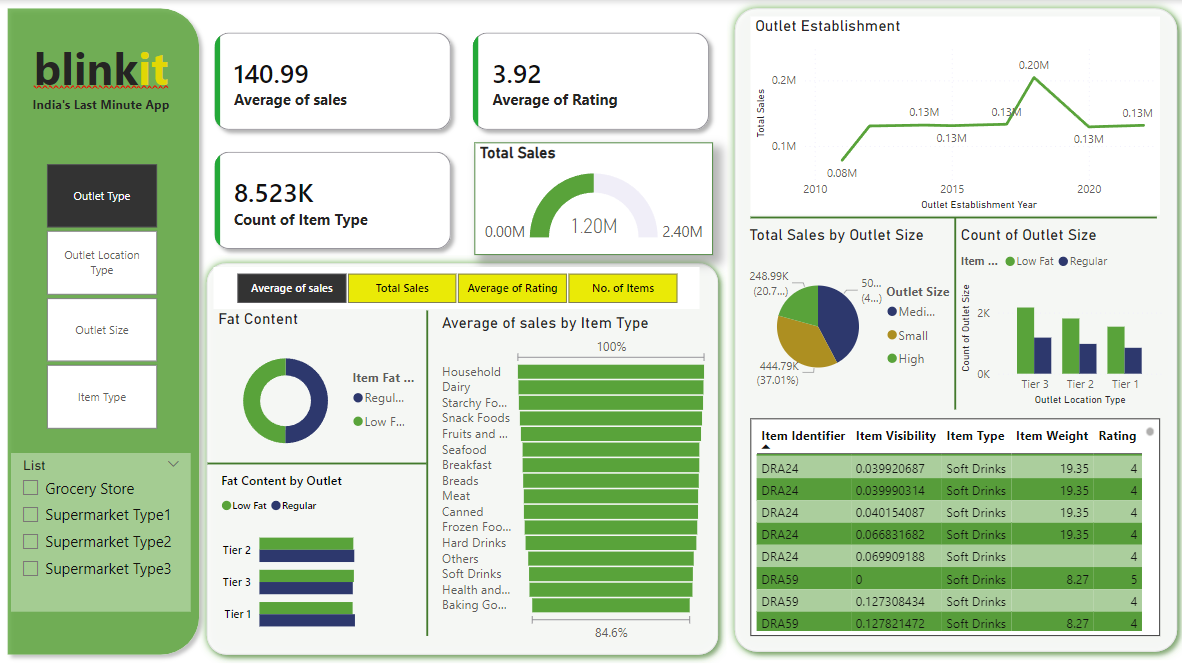

Layout of this report page (visuals, bound fields, positions):
{"tool":"powerbi","page":{"name":"Dashboard","canvas":[1280,720],"ordinal":0},"visuals":[{"type":"cardVisual","fields":{"Data":["bilnkit data.Average of sales","Avg(bilnkit data.Rating)","CountNonNull(bilnkit data.Item Type)"]},"box":[215.3,18.2,569.7,270],"z":0},{"type":"shape","box":[215.4,275.3,570,440.4],"z":1000},{"type":"shape","box":[785.3,0,495.5,712.5],"z":2000},{"type":"gauge","fields":{"Y":["bilnkit data.Total Sales"]},"box":[513.3,153.8,257.5,121.4],"z":3000},{"type":"funnel","fields":{"Y":["bilnkit data.Average of sales"],"Category":["bilnkit data.Item Type"]},"box":[472.8,338.4,297.9,357.8],"z":4000},{"type":"slicer","fields":{"Values":["Metrics.Metrics"]},"box":[231.5,288.2,524.6,45.3],"z":5000},{"type":"donutChart","title":"Fat Content","fields":{"Y":["bilnkit data.Average of sales"],"Category":["bilnkit data.Item Fat Content"]},"box":[231.5,333.6,229.9,178.1],"z":6000},{"type":"shape","box":[0,0,225.1,715.7],"z":7000},{"type":"slicer","fields":{"Values":["Parameter.Parameter"]},"box":[25.9,170,168.4,299.6],"z":8000},{"type":"slicer","fields":{"Values":["bilnkit data.Outlet Type"]},"box":[13,489,194.3,171.6],"z":9000},{"type":"lineChart","title":"Outlet Establishment","fields":{"Category":["bilnkit data.Outlet Establishment Year"],"Y":["bilnkit data.Total Sales"]},"box":[811.2,17.8,442,213.7],"z":10000},{"type":"tableEx","fields":{"Values":["bilnkit data.Item Identifier","bilnkit data.Item Visibility","bilnkit data.Item Type","bilnkit data.Item Weight","bilnkit data.Rating"]},"box":[811.2,451.8,442,234.8],"z":11000},{"type":"clusteredBarChart","title":"Fat Content by Outlet","fields":{"Y":["bilnkit data.Average of sales"],"Series":["bilnkit data.Item Fat Content"],"Category":["bilnkit data.Outlet Location Type"]},"box":[234.8,508.4,226.7,187.8],"z":12000},{"type":"textbox","box":[25.9,34,168.4,119.8],"z":13000},{"type":"shape","box":[225.1,469.6,236.4,61.5],"z":14000},{"type":"shape","box":[438.8,335.2,47,351.4],"z":15000},{"type":"pieChart","fields":{"Category":["bilnkit data.Outlet Size"],"Y":["bilnkit data.Total Sales"]},"box":[804,242.9,238,199.2],"z":16000},{"type":"shape","box":[811.2,226,438.8,16.2],"z":17000},{"type":"clusteredColumnChart","title":"Count of Outlet Size","fields":{"Y":["CountNonNull(bilnkit data.Outlet Size)"],"Category":["bilnkit data.Outlet Location Type"],"Series":["bilnkit data.Item Fat Content"]},"box":[1033.1,242.9,226.7,199.2],"z":17001},{"type":"shape","box":[1005.5,234.8,53.4,207.3],"z":17002}]}

Visuals, with their boxes in screenshot pixels (x1, y1, x2, y2), scaled from the page's 1280x720 canvas onto the 1182x664 screenshot:
cardVisual - bilnkit data.Average of sales x Avg(bilnkit data.Rating): left=199, top=17, right=725, bottom=266
shape: left=199, top=254, right=725, bottom=660
shape: left=725, top=0, right=1181, bottom=657
gauge - bilnkit data.Total Sales: left=474, top=142, right=712, bottom=254
funnel - bilnkit data.Average of sales x bilnkit data.Item Type: left=437, top=312, right=712, bottom=642
slicer - Metrics.Metrics: left=214, top=266, right=698, bottom=308
"Fat Content" donutChart: left=214, top=308, right=426, bottom=472
shape: left=0, top=0, right=208, bottom=660
slicer - Parameter.Parameter: left=24, top=157, right=179, bottom=433
slicer - bilnkit data.Outlet Type: left=12, top=451, right=191, bottom=609
"Outlet Establishment" lineChart: left=749, top=16, right=1157, bottom=213
tableEx - bilnkit data.Item Identifier x bilnkit data.Item Visibility: left=749, top=417, right=1157, bottom=633
"Fat Content by Outlet" clusteredBarChart: left=217, top=469, right=426, bottom=642
textbox: left=24, top=31, right=179, bottom=142
shape: left=208, top=433, right=426, bottom=490
shape: left=405, top=309, right=449, bottom=633
pieChart - bilnkit data.Outlet Size x bilnkit data.Total Sales: left=742, top=224, right=962, bottom=408
shape: left=749, top=208, right=1154, bottom=223
"Count of Outlet Size" clusteredColumnChart: left=954, top=224, right=1163, bottom=408
shape: left=929, top=217, right=978, bottom=408
